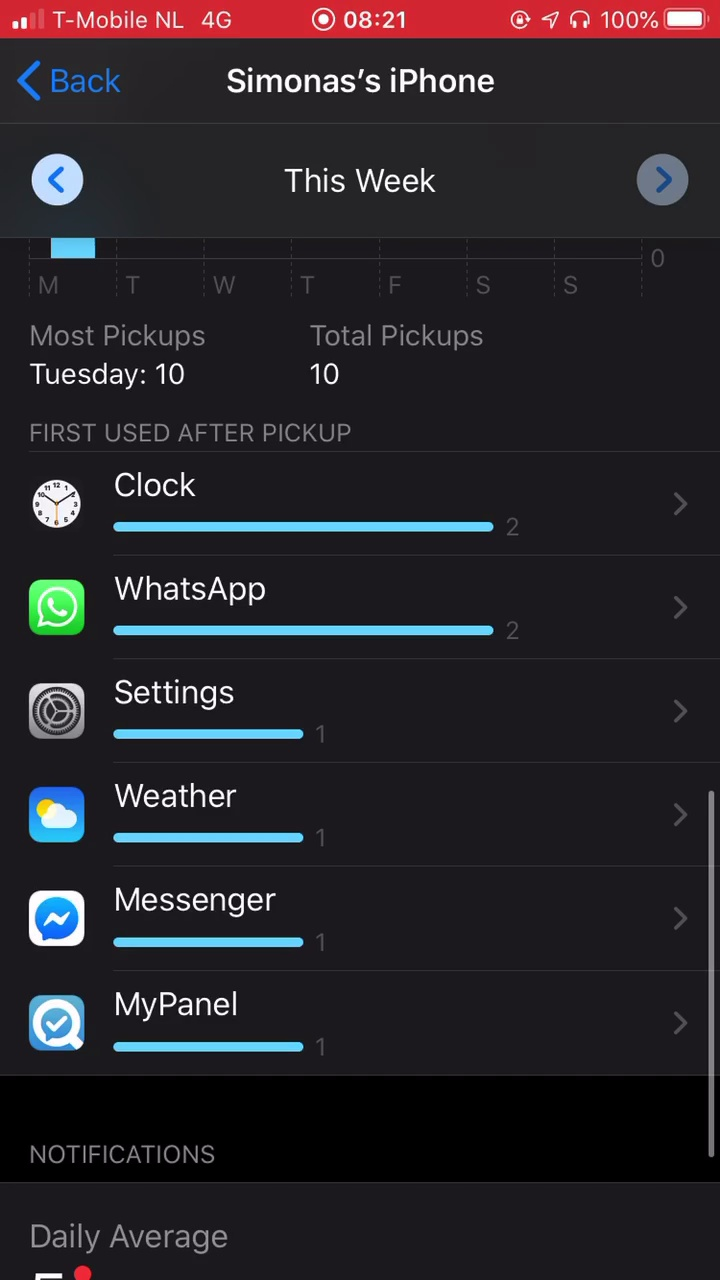pick_app: (25, 464, 531, 553), (20, 572, 525, 649), (18, 872, 328, 967), (21, 772, 332, 860), (20, 985, 323, 1074), (25, 674, 329, 757)
pick_over: (26, 311, 520, 399)
week: (244, 154, 454, 209)
